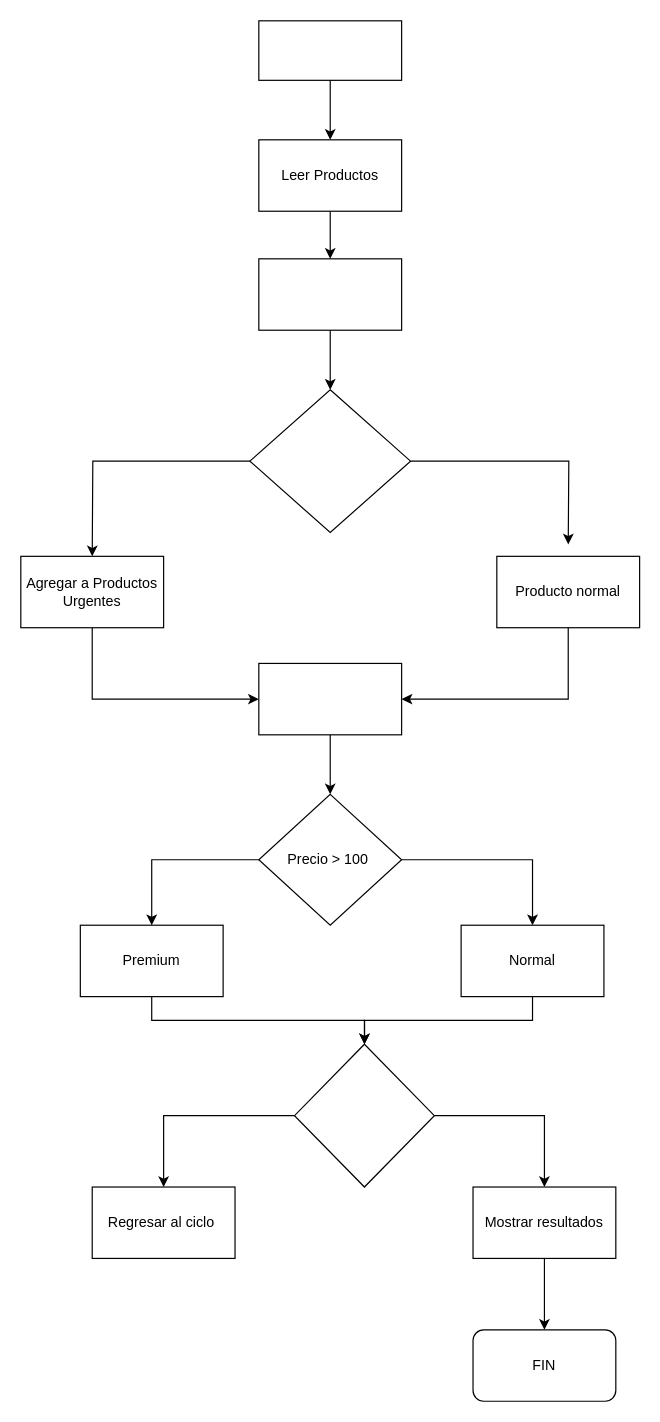
Image size: 660x1422. Some labels were removed from this diagram. Each missing label, with the centre of its shape:
Cantidad < 5 ?: the point at 330,461
Inicio: the point at 330,50
Más Productos: the point at 363,1115
Recorrer lista: the point at 330,294
Total + = Cantidad x Precio: the point at 330,698
